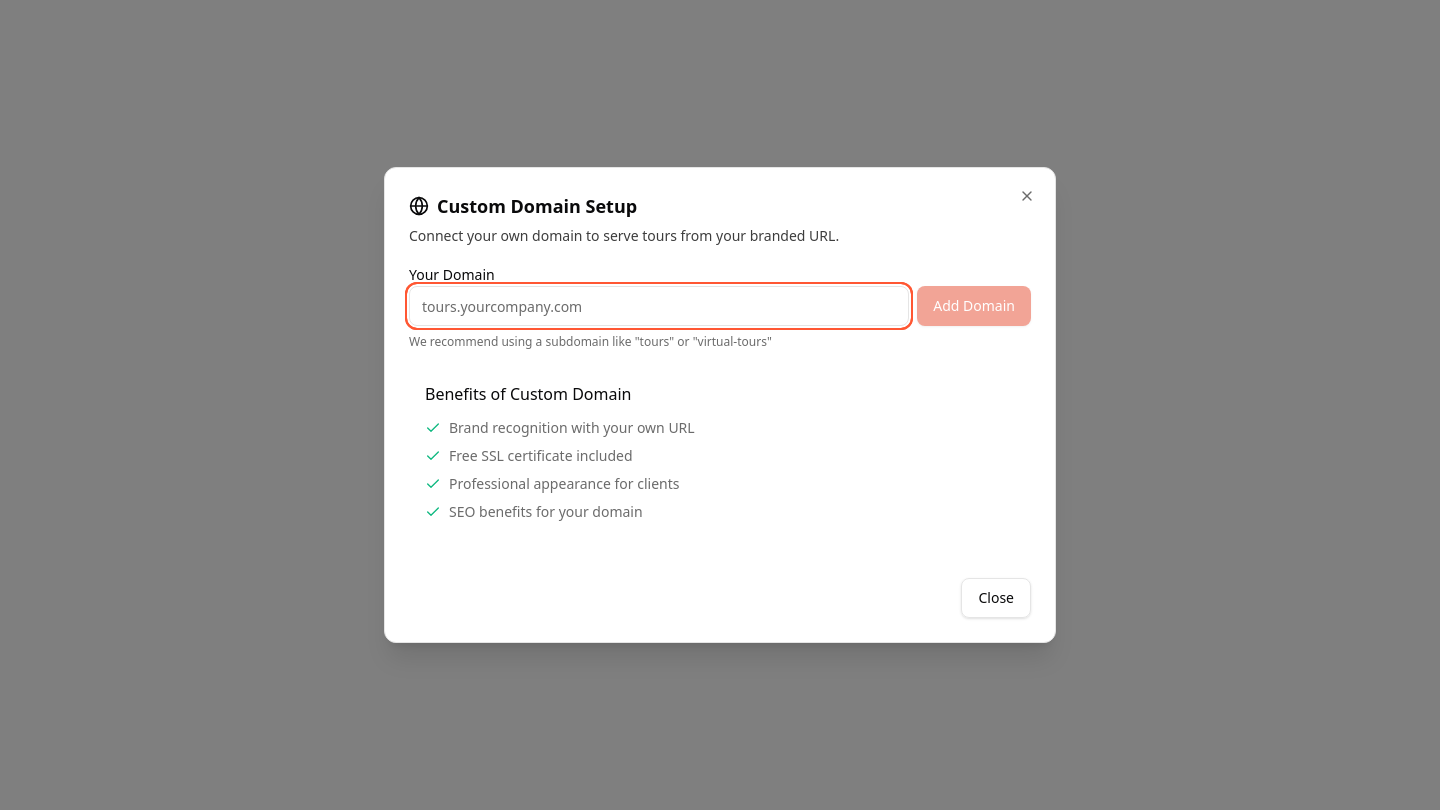
Test: Custom domain setup behavior › loads and displays the server-issued TXT challenge from the custom-domain API
In the field labelled "Your Domain": (659, 306) [409,286,909,326], type "tours.example.com"
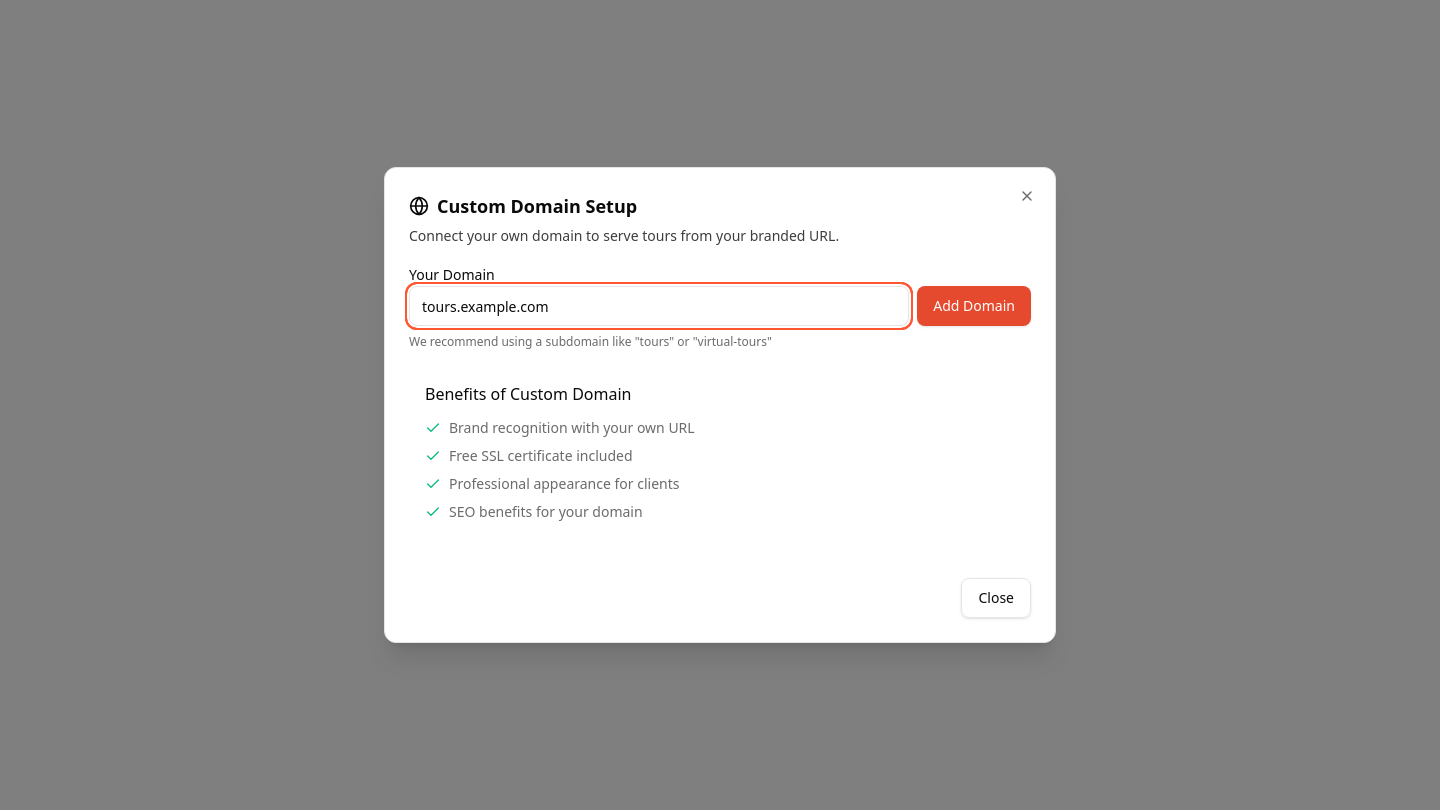
Click the button "Add Domain": (974, 306) [917,286,1031,326]
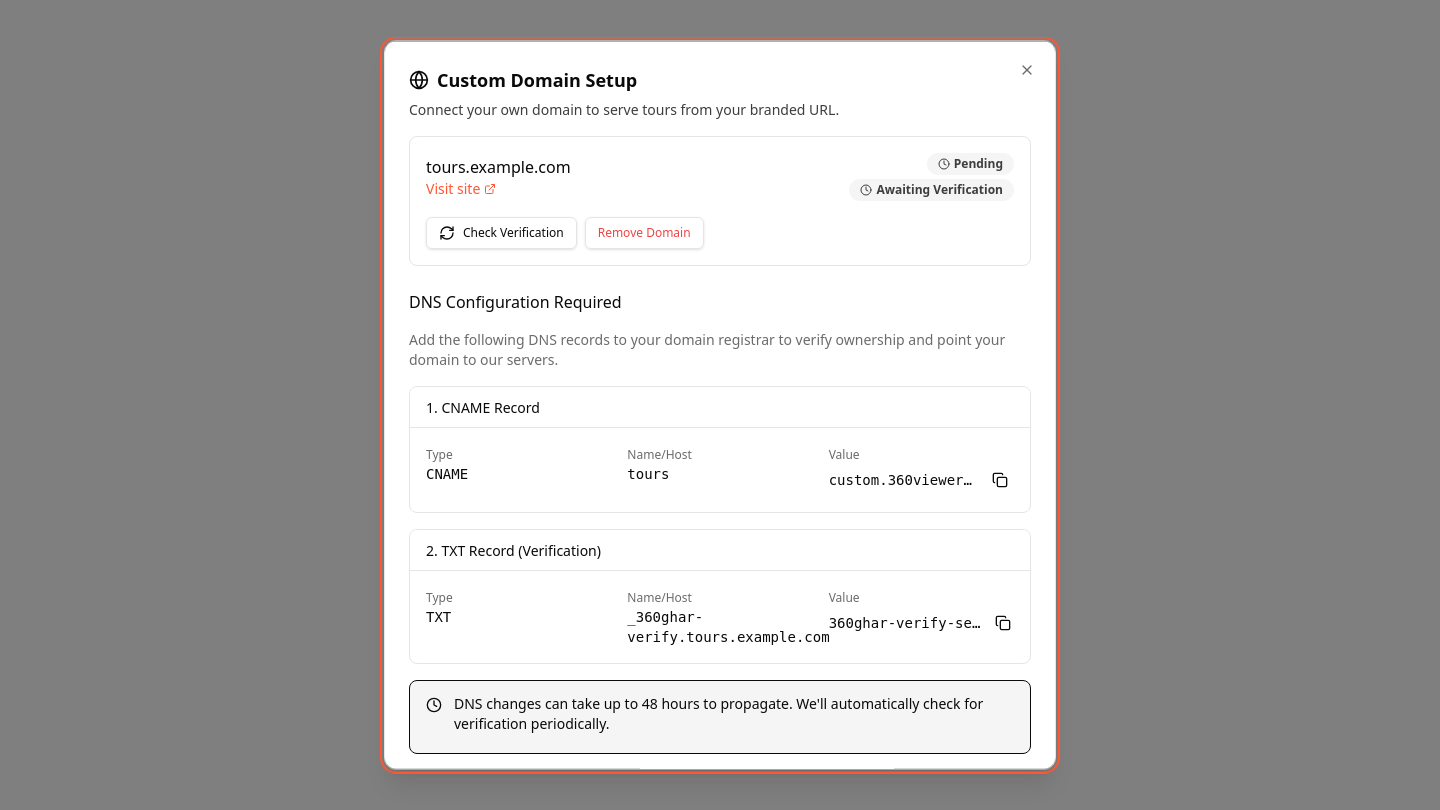
Expected: the text "_360ghar-verify.tours.example.com" is shown, [627,606,813,646]
Expected: the text "360ghar-verify-server-issued" is shown, [829,612,985,632]
Expected: the button "Check Verification" is enabled, [426,216,577,248]
